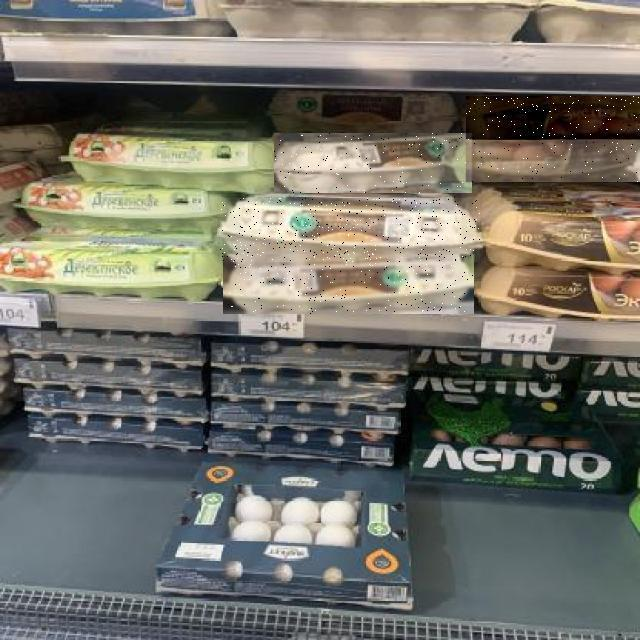egg: (0, 157, 460, 471), (0, 131, 460, 393), (38, 96, 510, 290), (146, 91, 640, 273), (146, 70, 640, 208)
